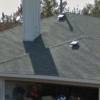Chimney: (14, 0, 46, 45)
